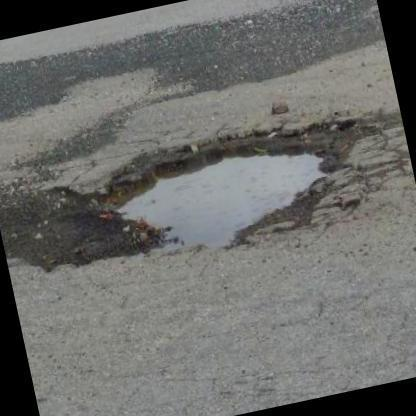pothole: (38, 112, 362, 264)
